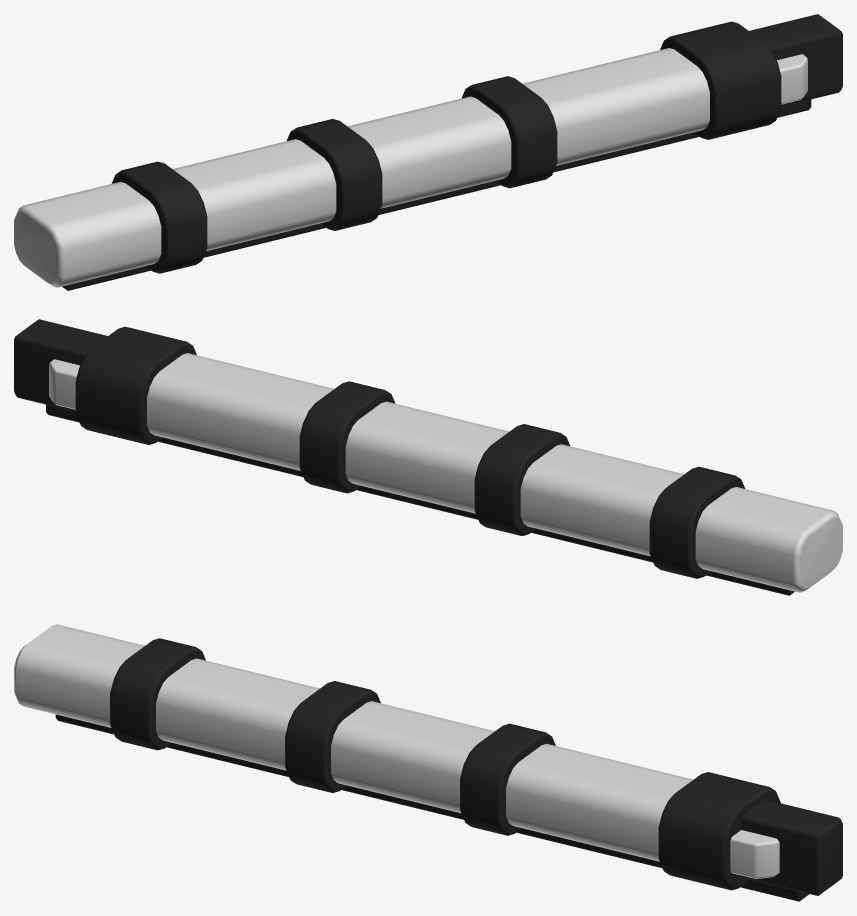
The model's file is obstacle_5_002.fbx.
3 renders of one model, top to bottom at view 1: azimuth 30°, elevation 25°; view 2: azimuth 150°, elevation 25°; view 3: azimuth 330°, elevation 25°, orthographic.
Parts seen in each view (by area): view 1: obstacle_5_002; view 2: obstacle_5_002; view 3: obstacle_5_002.
Boxes of the visible parts, <box> form: obstacle_5_002: <box>14,14,842,290</box>; obstacle_5_002: <box>14,319,842,595</box>; obstacle_5_002: <box>14,624,842,901</box>.
Size of the model in its own units: 1453 by 184 by 152.
